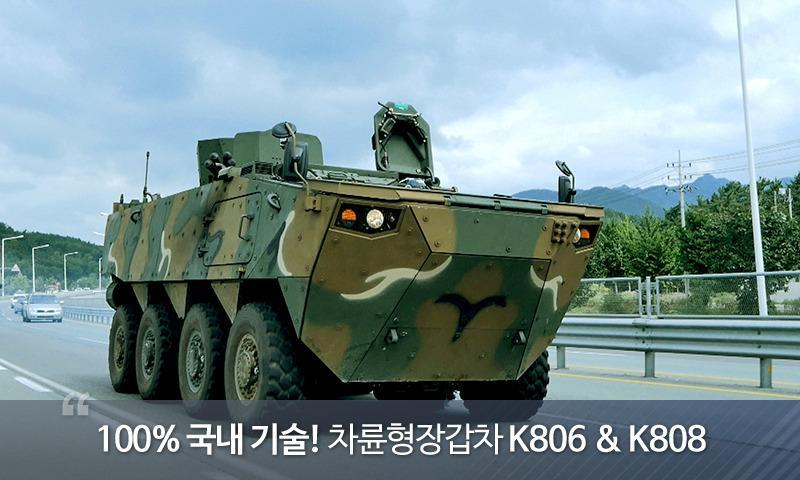MIL_IFV: (105, 98, 606, 416)
